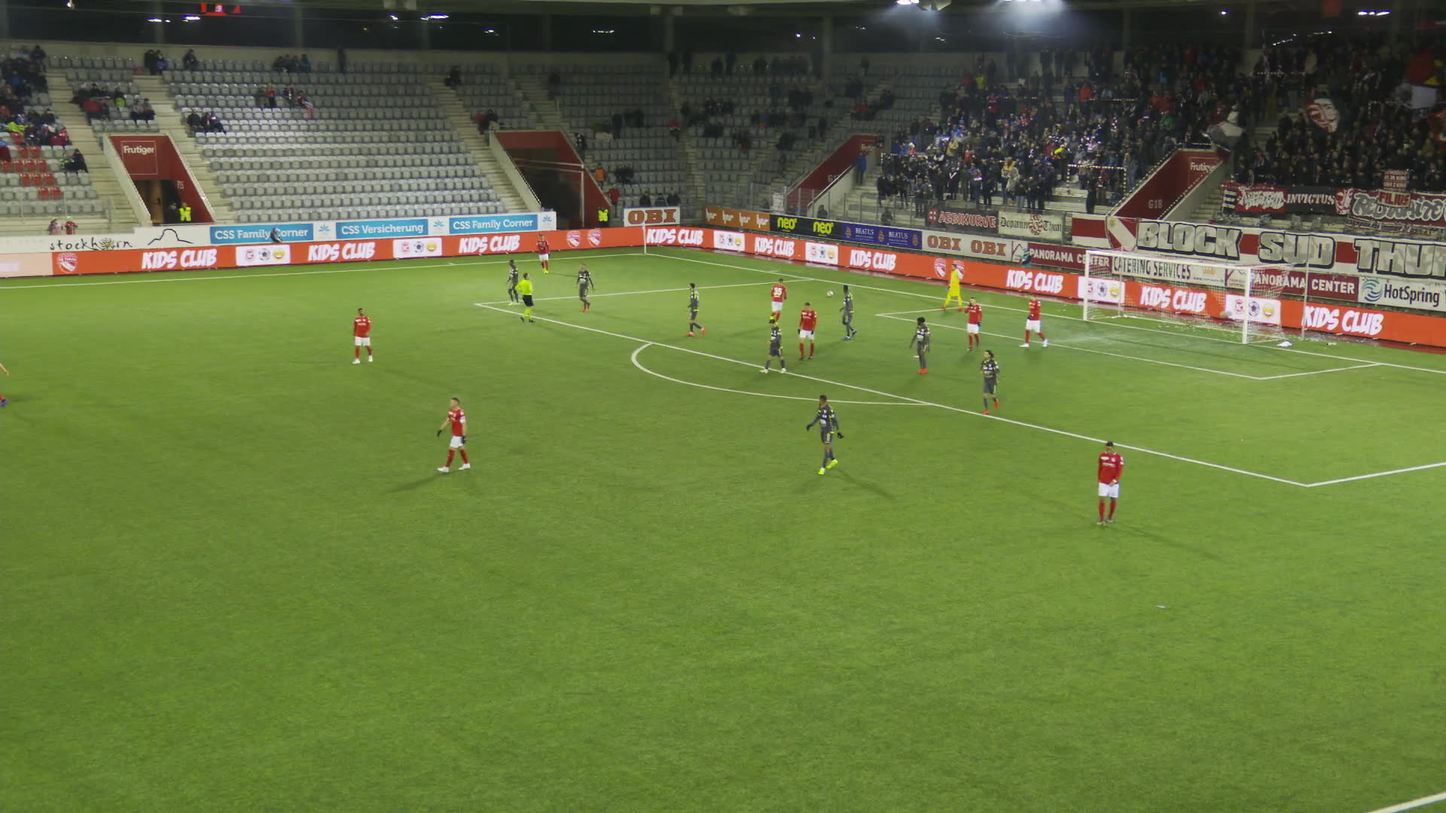ball: (825, 290, 831, 296)
player: (804, 392, 842, 472), (432, 400, 472, 474), (1094, 440, 1120, 526), (1018, 294, 1043, 348), (909, 316, 932, 373), (762, 318, 785, 373), (347, 306, 368, 365), (682, 282, 703, 336), (978, 350, 996, 413), (796, 301, 814, 360), (941, 263, 963, 310), (837, 284, 855, 340), (962, 297, 981, 350), (570, 263, 589, 313), (764, 277, 782, 329), (504, 260, 522, 303), (534, 233, 548, 273)
referee: (516, 272, 535, 322)
